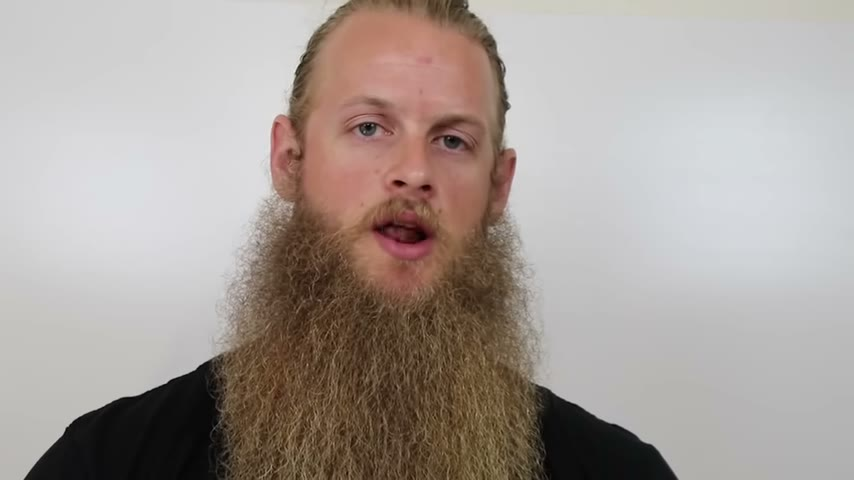barbell_plate_side: (397, 106, 526, 249)
